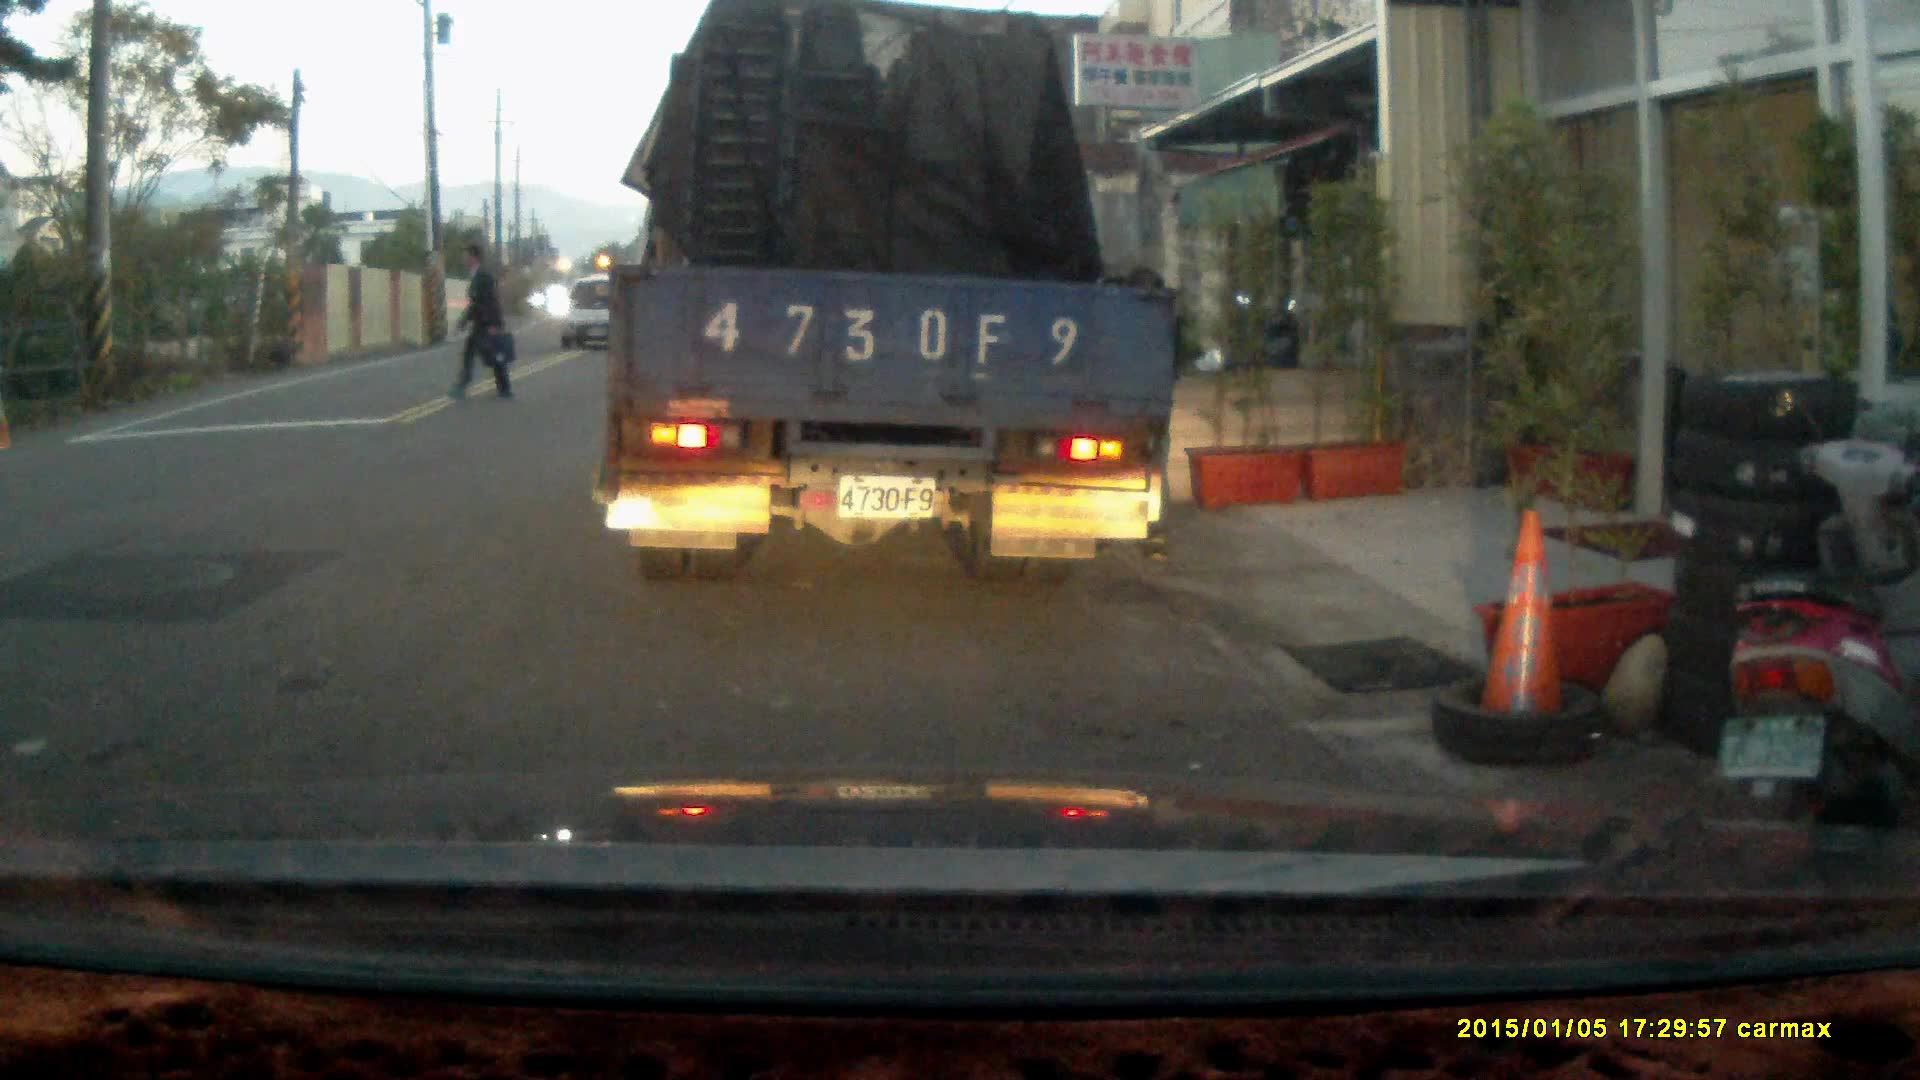pedestrian: (450, 241, 512, 404)
vehicle: (604, 23, 1188, 572), (560, 273, 627, 355)
